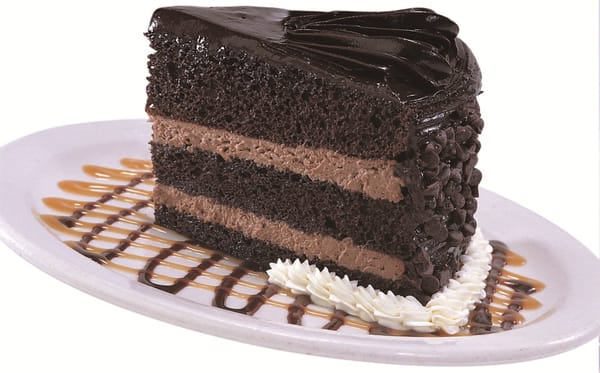burger: (20, 154, 577, 357)
